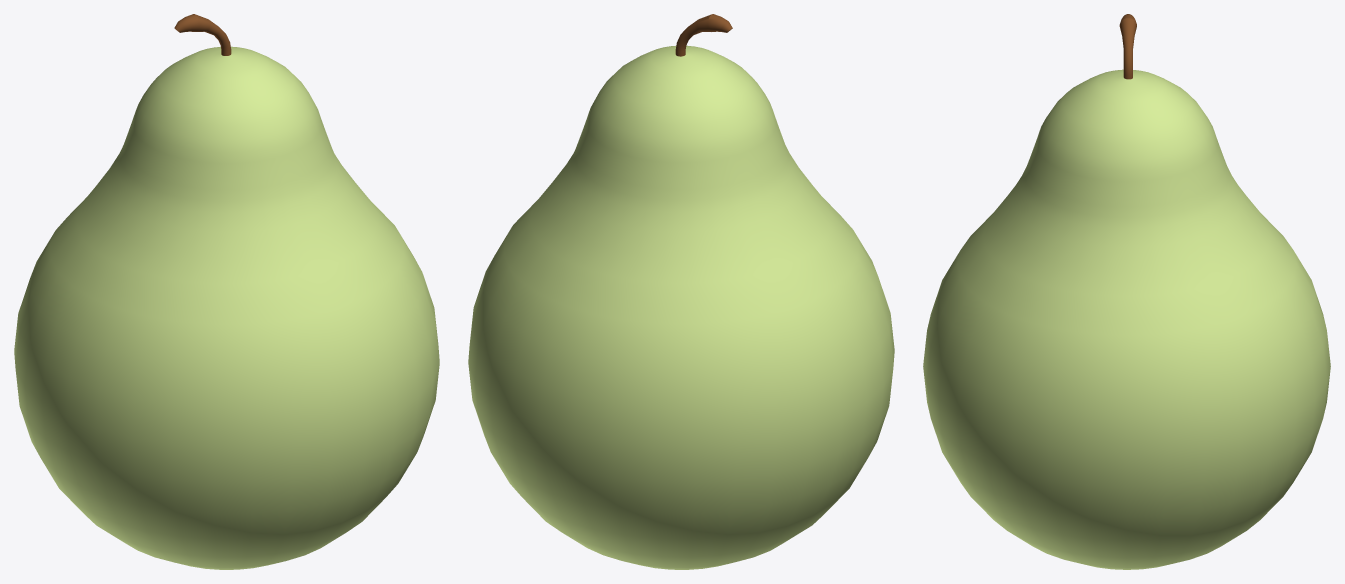
The model's file is pear.glb.
3 views of the same model, side by side, from view 1: azimuth 30°, elevation 25°; view 2: azimuth 150°, elevation 25°; view 3: azimuth 270°, elevation 25° (orthographic). The views are drawn at different scales.
Parts seen in each view (by area): view 1: Sphere.001, Cylinder; view 2: Sphere.001, Cylinder; view 3: Sphere.001, Cylinder.
Part boxes in pixels (x1=…): Sphere.001: x1=14, y1=46, x2=439, y2=569; Cylinder: x1=174, y1=14, x2=231, y2=55; Sphere.001: x1=468, y1=45, x2=894, y2=569; Cylinder: x1=675, y1=14, x2=732, y2=56; Sphere.001: x1=923, y1=69, x2=1330, y2=569; Cylinder: x1=1119, y1=14, x2=1136, y2=79.
Size of the model in its own units: 2 by 2.81 by 2.
